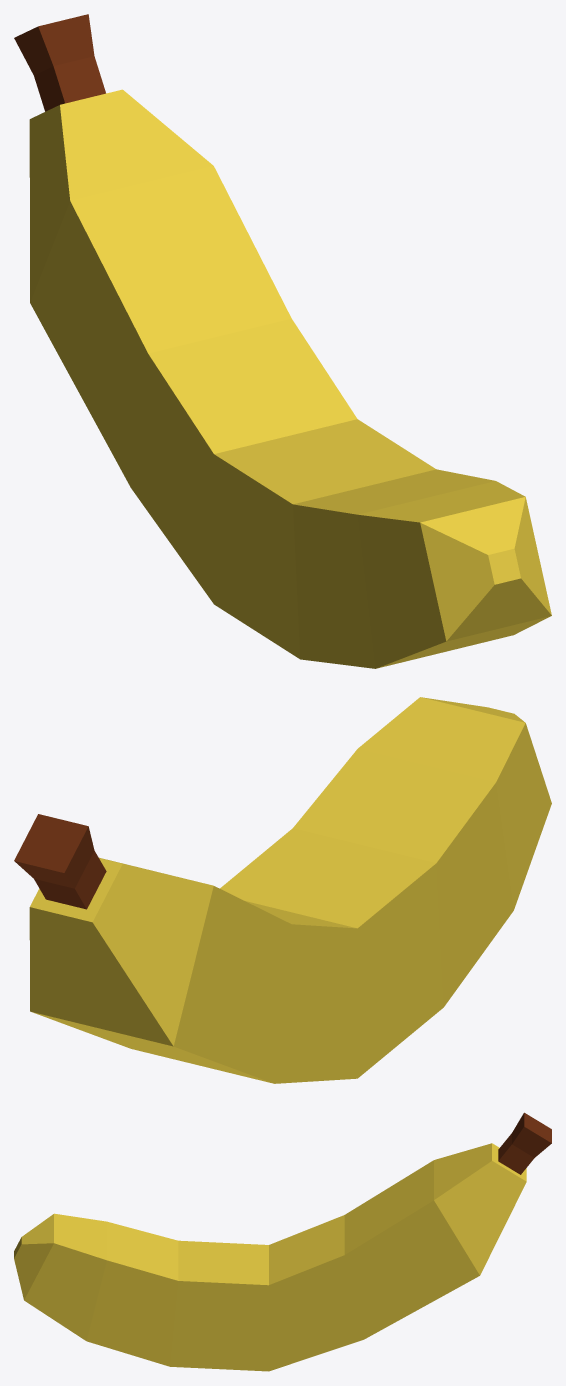
File: Banana.fbx
3 renders of one model, top to bottom at view 1: azimuth 30°, elevation 25°; view 2: azimuth 150°, elevation 25°; view 3: azimuth 270°, elevation 25°, orthographic. The views are drawn at different scales.
Visible parts, largest first — view 1: Cube; view 2: Cube; view 3: Cube.
Part boxes in pixels (<box>): Cube: <box>14,14,551,668</box>; Cube: <box>14,697,551,1083</box>; Cube: <box>14,1112,551,1371</box>.
Size of the model in its own units: 200 by 538 by 1131.
